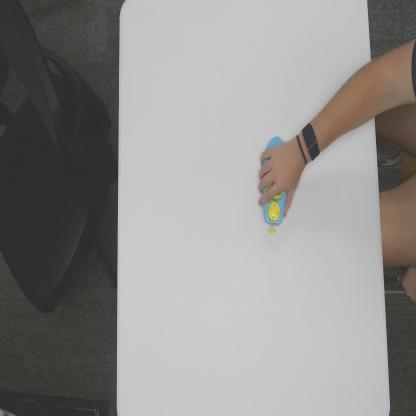Arm: (316, 57, 374, 140)
Boat: (262, 135, 289, 235)
Hand: (258, 137, 300, 217)
